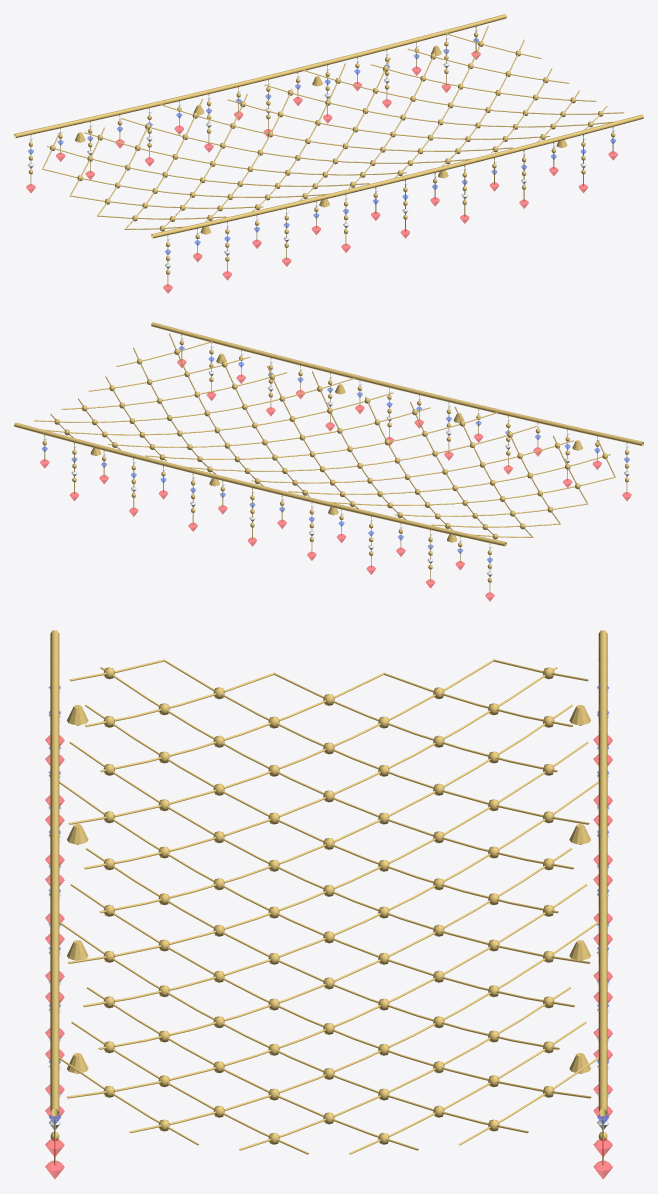
File: ramou_lod.glb
3 renders of one model, top to bottom at view 1: azimuth 30°, elevation 25°; view 2: azimuth 150°, elevation 25°; view 3: azimuth 270°, elevation 25°, orthographic. The views are drawn at different scales.
Visible parts, largest first — view 1: gold_wire, gold_pearl, shuju_gem_batch, hari_gem_batch, lapis_gem_batch, silver_batch; view 2: gold_wire, gold_pearl, shuju_gem_batch, hari_gem_batch, lapis_gem_batch, silver_batch; view 3: gold_wire, gold_pearl, shuju_gem_batch.
Part boxes in pixels (x1,y1,x2,y2): gold_wire: [14, 14, 643, 286]; gold_pearl: [28, 32, 615, 274]; shuju_gem_batch: [26, 51, 617, 293]; hari_gem_batch: [28, 27, 615, 241]; lapis_gem_batch: [28, 38, 615, 254]; silver_batch: [28, 63, 586, 268]; gold_wire: [14, 322, 643, 594]; gold_pearl: [42, 340, 629, 582]; shuju_gem_batch: [40, 359, 631, 601]; hari_gem_batch: [42, 335, 629, 549]; lapis_gem_batch: [42, 346, 629, 562]; silver_batch: [71, 371, 629, 576]; gold_wire: [50, 630, 607, 1165]; gold_pearl: [50, 667, 607, 1144]; shuju_gem_batch: [45, 735, 612, 1179].
Bounding box in the file's own units: 12.42 × 1.6 × 6.22.
